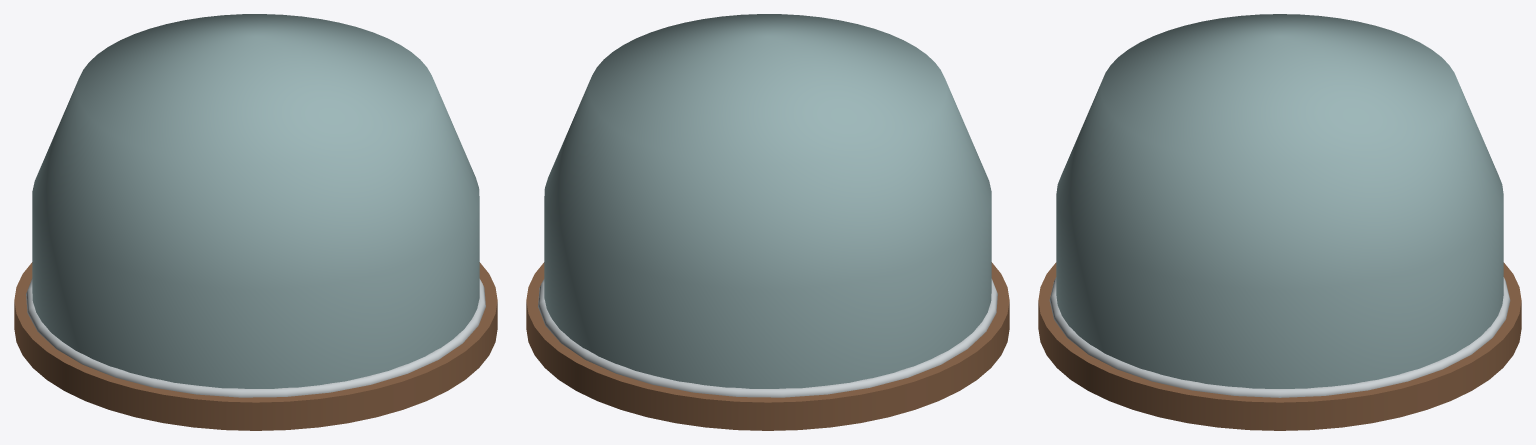
Rendered from clockmaker-and-watch-repair-covered-dust-dome-02b4e08c__30611.glb.
3 renders of one model, left to right at view 1: azimuth 30°, elevation 25°; view 2: azimuth 150°, elevation 25°; view 3: azimuth 270°, elevation 25°, orthographic.
Parts seen in each view (by area): view 1: covered-dust-dome; view 2: covered-dust-dome; view 3: covered-dust-dome.
Boxes of the visible parts, <box> form: covered-dust-dome: <box>14,14,497,430</box>; covered-dust-dome: <box>526,14,1009,430</box>; covered-dust-dome: <box>1038,14,1521,430</box>.
Size of the model in its own units: 0.216 by 0.144 by 0.216.
